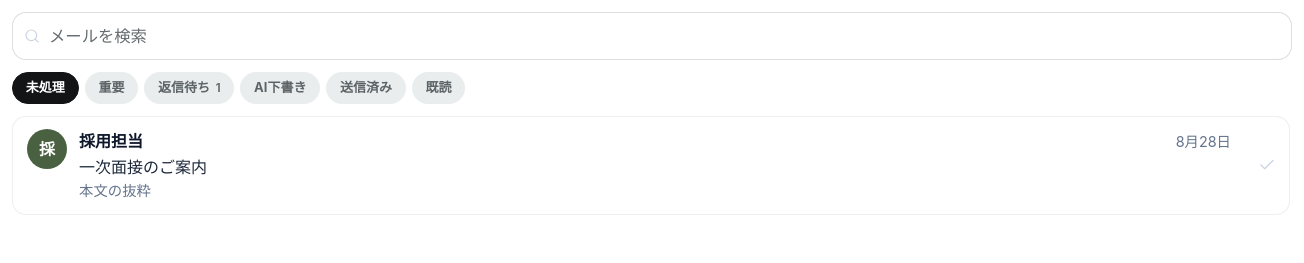
Scenario: メール一覧 › 返信待ちがあれば絞り込みを出し、何日待っているかを行に出す
Expected: the link "採 採用担当 8月28日 一次面接のご案内 本文の抜粋" is shown, [13,117,1245,214]
Click the button named "返信待ち 1" at point(189, 88), box [144,72,234,104]
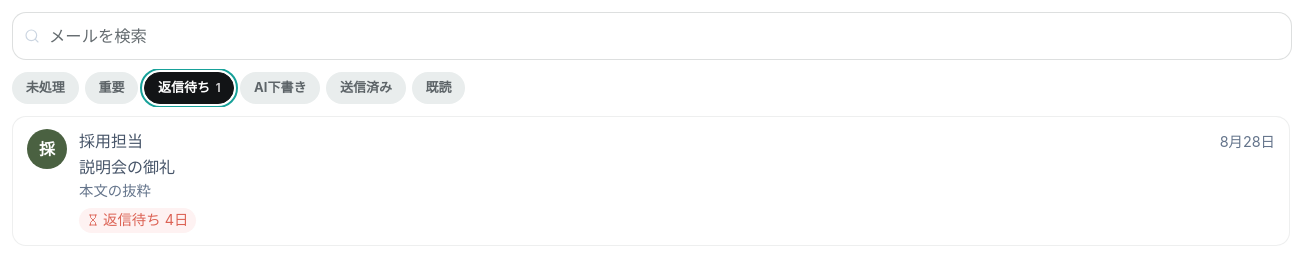
Expected: the link "採 採用担当 8月28日 説明会の御礼 本文の抜粋 返信待ち 4日" is shown, [13,117,1289,245]
Expected: the text "返信待ち 4日" is shown, [79,208,196,233]
Expected: the link "一次面接のご案内" is gone
